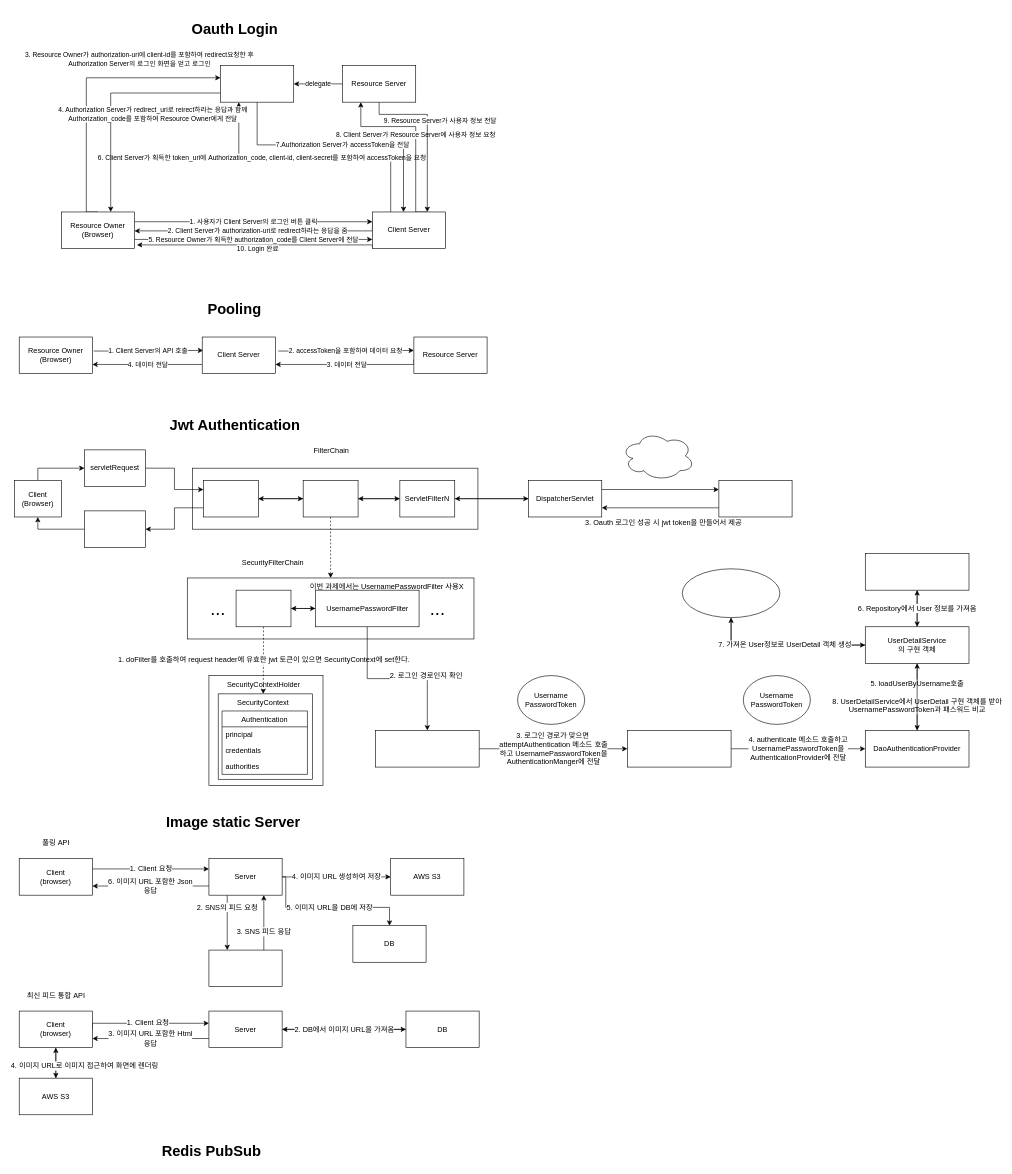
Some shapes in this 1012 by 1174 pixel diagram are drawn without their labels. Here are the shapes that lost their labels. From the top down, the centre of each, then its label:
the point at 257,83: Authorization Server
the point at 657,455: 2. Oauth Login
the point at 230,498: ServletFilter1
the point at 330,498: SecurityFilter
the point at 755,498: Controller
the point at 114,528: servletResponse
the point at 917,571: Repository
the point at 263,608: JwtFilter
the point at 731,593: UserDetail 의 구현 객체
the point at 427,748: AntPathRequesMatcher(/login)
the point at 679,748: AuthenticationManager
the point at 245,968: SNS
